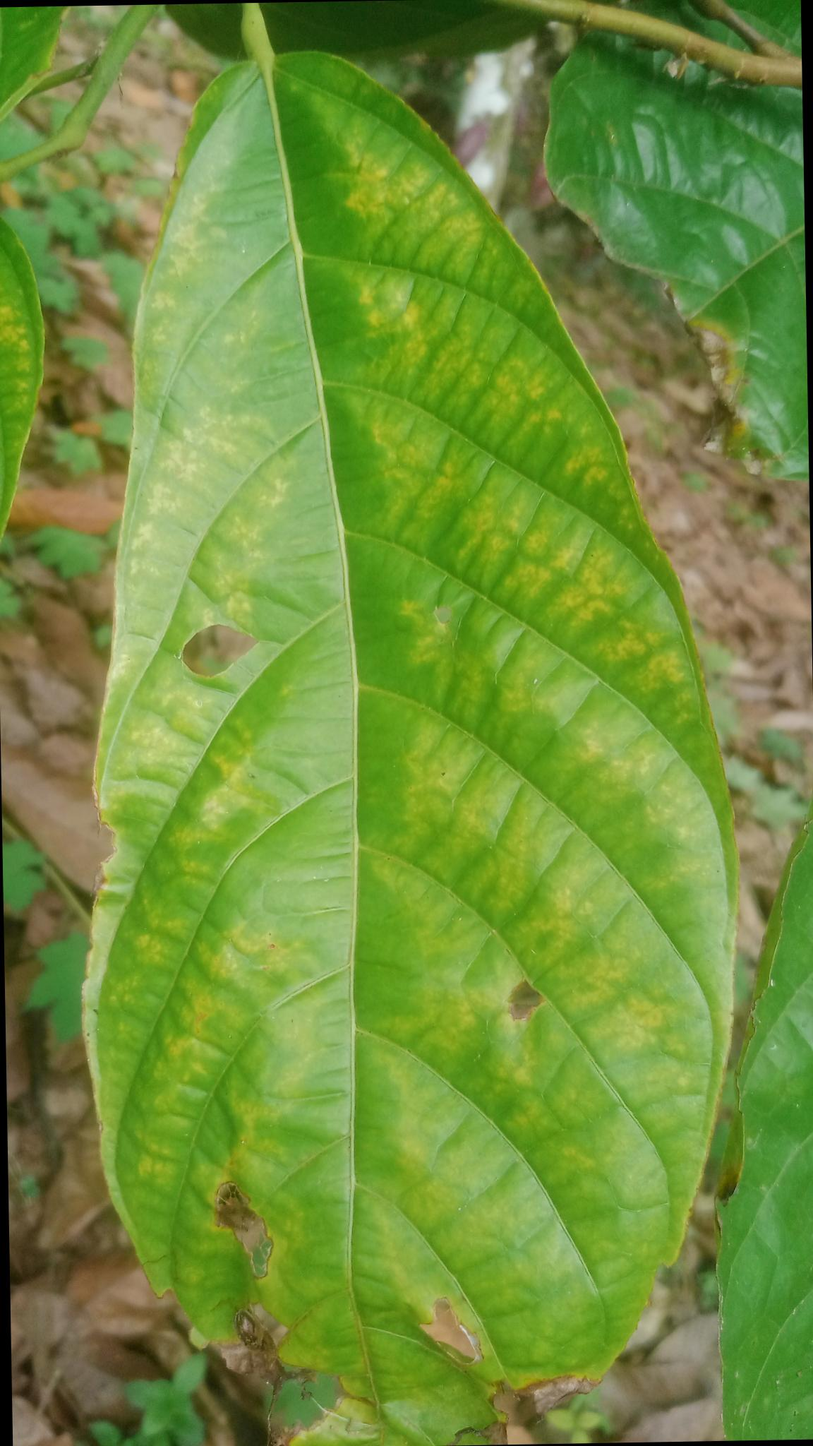Fosforo: (82, 44, 721, 1398)
